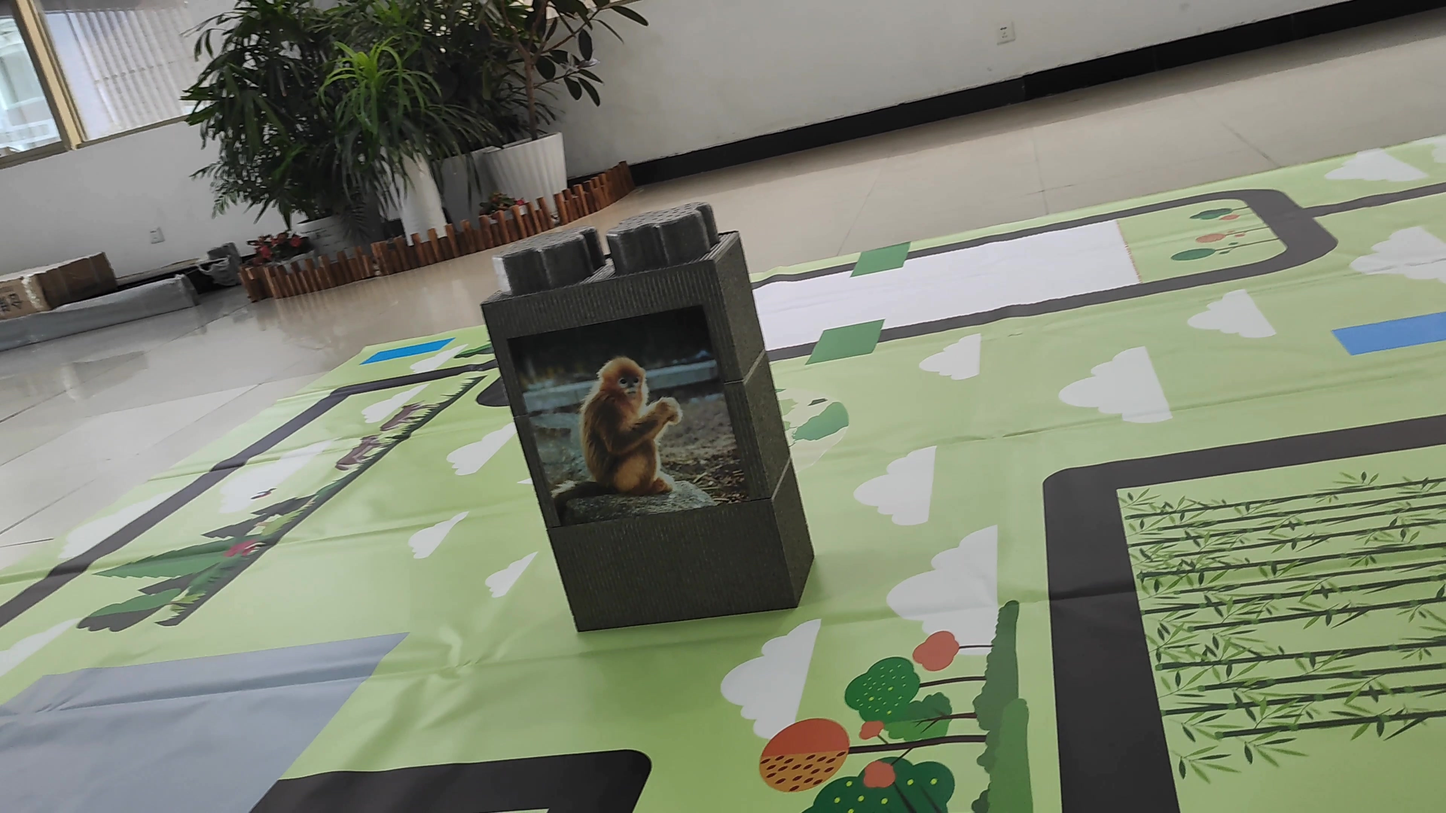monkey: (500, 303, 756, 530)
